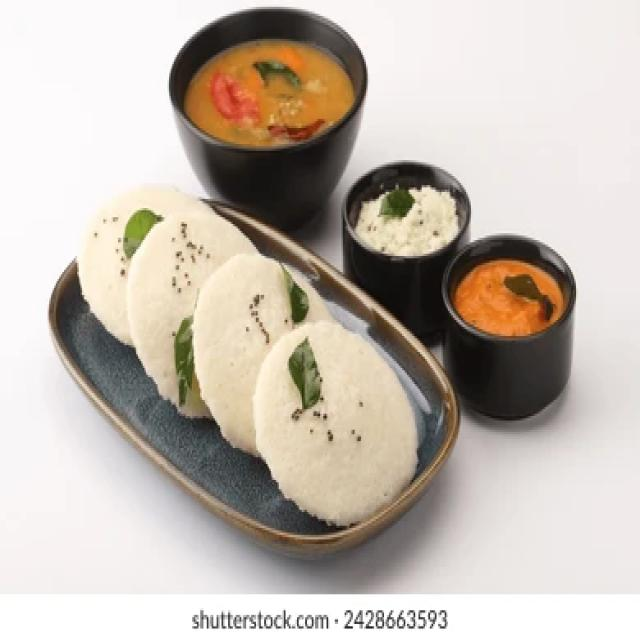IDLI: (254, 322, 417, 523), (126, 210, 246, 402), (194, 254, 292, 453), (77, 185, 199, 343)
